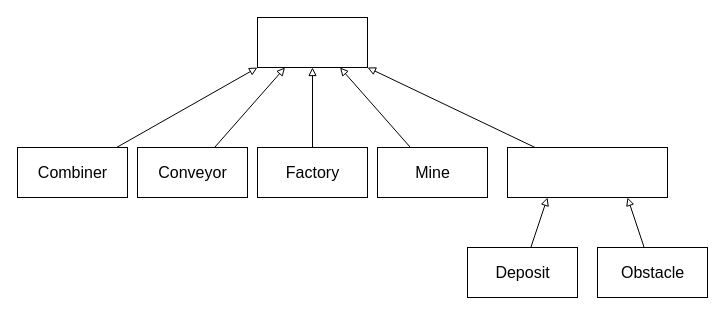
Some shapes in this 725 by 315 pixel diagram are drawn without their labels. The shapes that lost their labels are listed below. From the top down, each one's centre as x and y in pixels, then its label:
At (x=312, y=42): "Building".
At (x=587, y=172): "UnplaceableBuilding".
